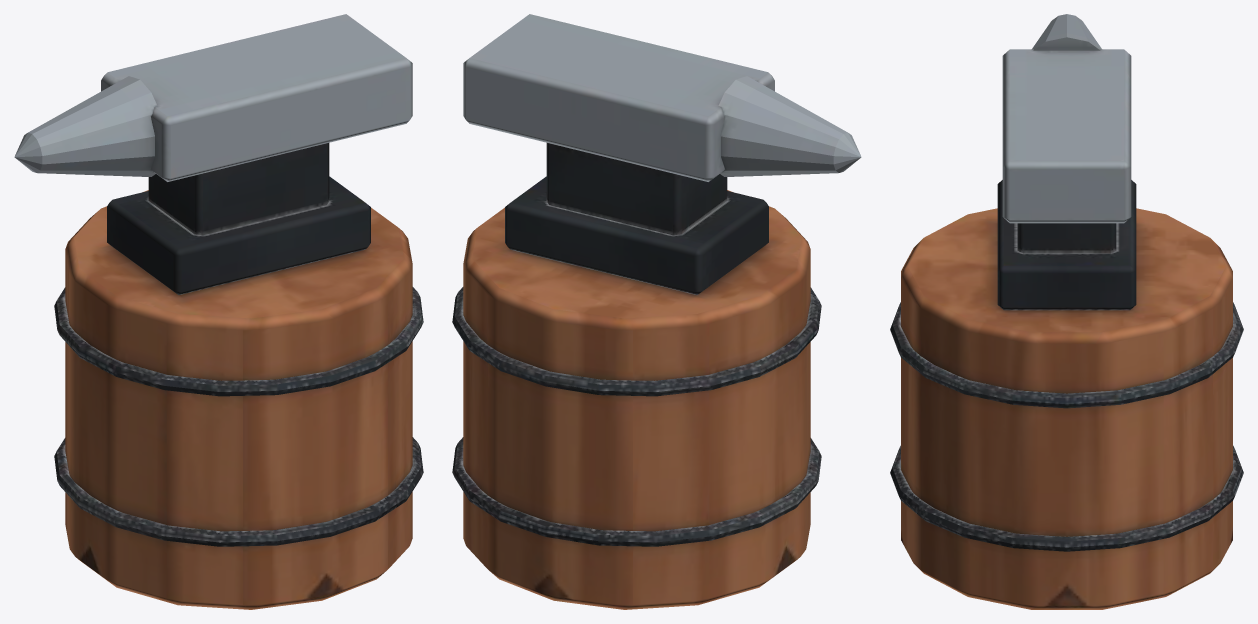
File: anvil_stump.glb
The picture shows the model from 3 angles, left to right: view 1: azimuth 30°, elevation 25°; view 2: azimuth 150°, elevation 25°; view 3: azimuth 270°, elevation 25°; orthographic projection. The views are drawn at different scales.
Parts seen in each view (by area): view 1: AnvilStump; view 2: AnvilStump; view 3: AnvilStump.
Boxes of the visible parts, left/top/right/bottom form: AnvilStump: left=14, top=14, right=423, bottom=609; AnvilStump: left=452, top=14, right=861, bottom=609; AnvilStump: left=890, top=14, right=1243, bottom=609.
Bounding box in the file's own units: 0.858 × 1.03 × 0.716.
1 material, 1 textured.
